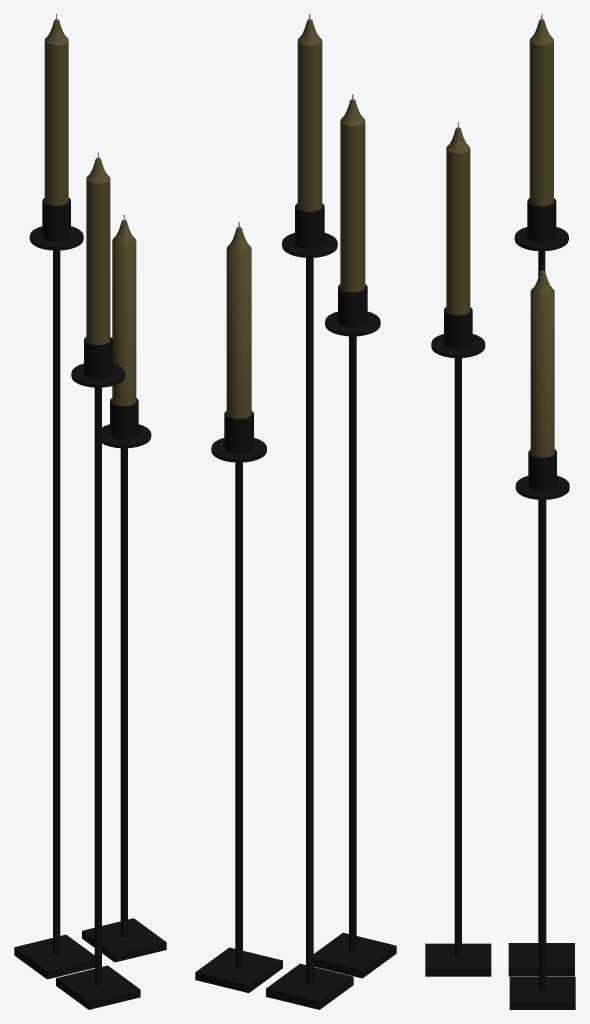
The model's file is lights.glb.
3 renders of one model, left to right at view 1: azimuth 30°, elevation 25°; view 2: azimuth 150°, elevation 25°; view 3: azimuth 270°, elevation 25°, orthographic. The views are drawn at different scales.
Visible parts, largest first — view 1: chandelier_grand_fin_70cm, chandelier_grand_fin_50cm, chandelier_grand_fin_60cm; view 2: chandelier_grand_fin_70cm, chandelier_grand_fin_50cm, chandelier_grand_fin_60cm; view 3: chandelier_grand_fin_50cm, chandelier_grand_fin_60cm, chandelier_grand_fin_70cm.
Boxes of the visible parts, bbox=[...] form: chandelier_grand_fin_70cm: bbox=[14, 14, 94, 979]; chandelier_grand_fin_50cm: bbox=[56, 152, 140, 1009]; chandelier_grand_fin_60cm: bbox=[82, 214, 166, 962]; chandelier_grand_fin_70cm: bbox=[266, 14, 353, 1009]; chandelier_grand_fin_50cm: bbox=[313, 94, 396, 978]; chandelier_grand_fin_60cm: bbox=[195, 222, 282, 992]; chandelier_grand_fin_50cm: bbox=[425, 122, 491, 976]; chandelier_grand_fin_60cm: bbox=[509, 265, 575, 1009]; chandelier_grand_fin_70cm: bbox=[508, 14, 574, 976].
Bounding box in the file's own units: 0.1156 × 0.8718 × 0.1252.
